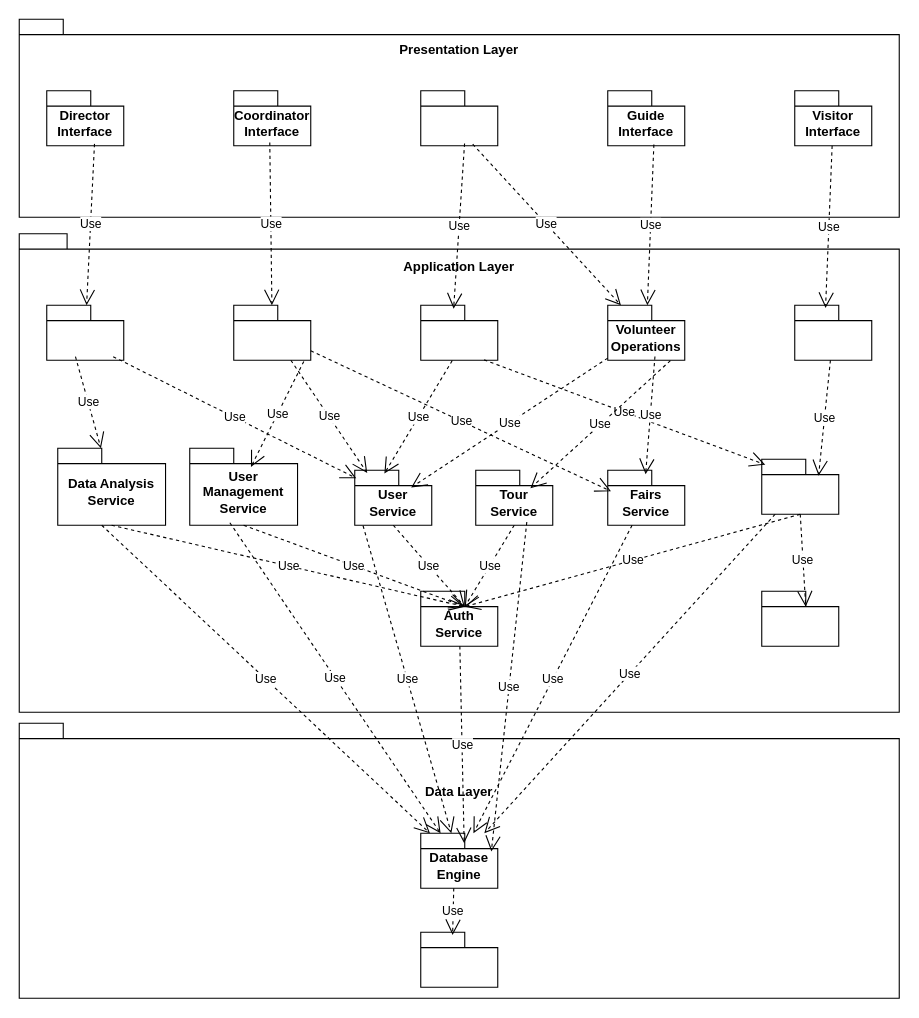
Some shapes in this 919 by 1018 pixel diagram are drawn without their labels. Each missing label, with the centre of its shape:
Advisor Interface: the point at 459,118
Advisor Operations: the point at 459,332
Application Service: the point at 800,486
Coordinator Operations: the point at 272,332
Director Operations: the point at 85,332
Firebase: the point at 459,959
Mail Service: the point at 800,618
Visitor Operations: the point at 833,332
